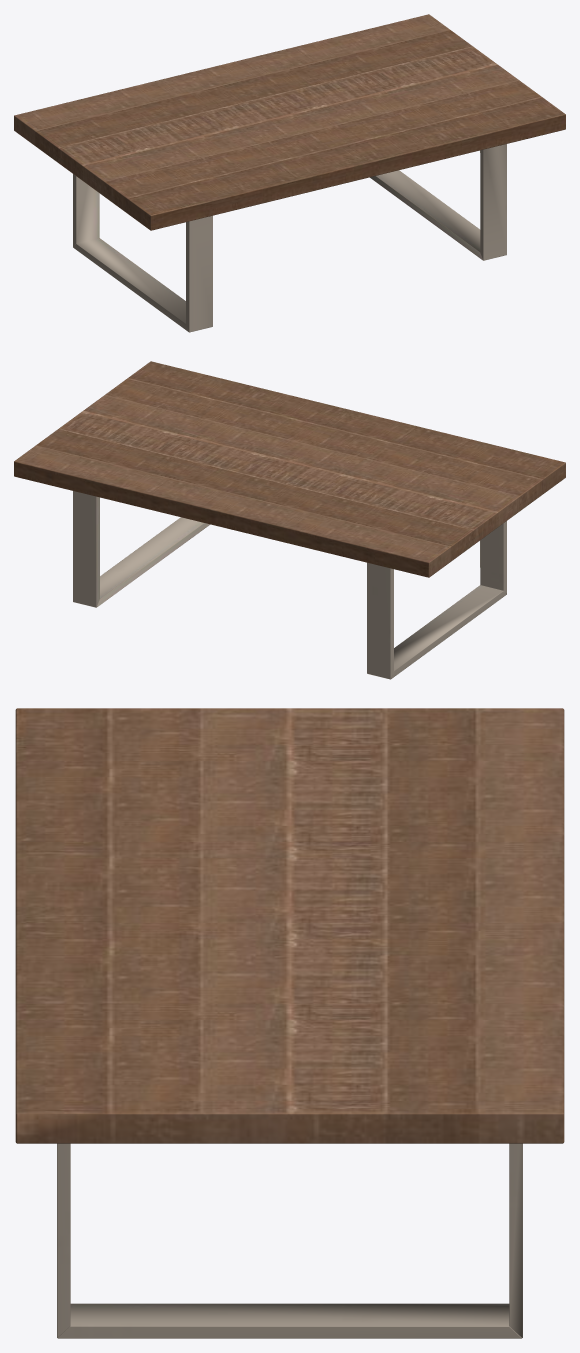
3 renders of one model, top to bottom at view 1: azimuth 30°, elevation 25°; view 2: azimuth 150°, elevation 25°; view 3: azimuth 270°, elevation 25°, orthographic. The views are drawn at different scales.
Parts seen in each view (by area): view 1: RootNode; view 2: RootNode; view 3: RootNode.
Part boxes in pixels (x1,y1,x2,y2): RootNode: (14, 14, 565, 332); RootNode: (14, 361, 565, 679); RootNode: (15, 708, 564, 1338).
Size of the model in its own units: 1.4 by 0.439 by 0.7984.
Materials: 1 (1 with a texture image).
